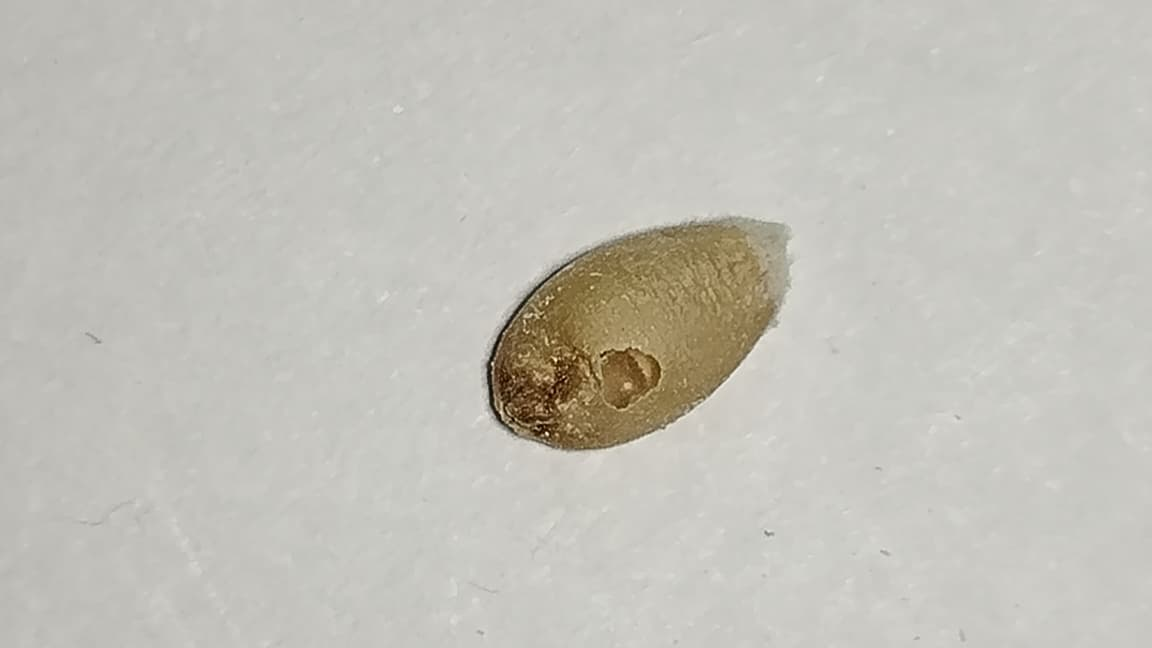damage: (487, 215, 793, 448)
insectdamage: (583, 339, 673, 419)
staindamage: (494, 341, 590, 433)
